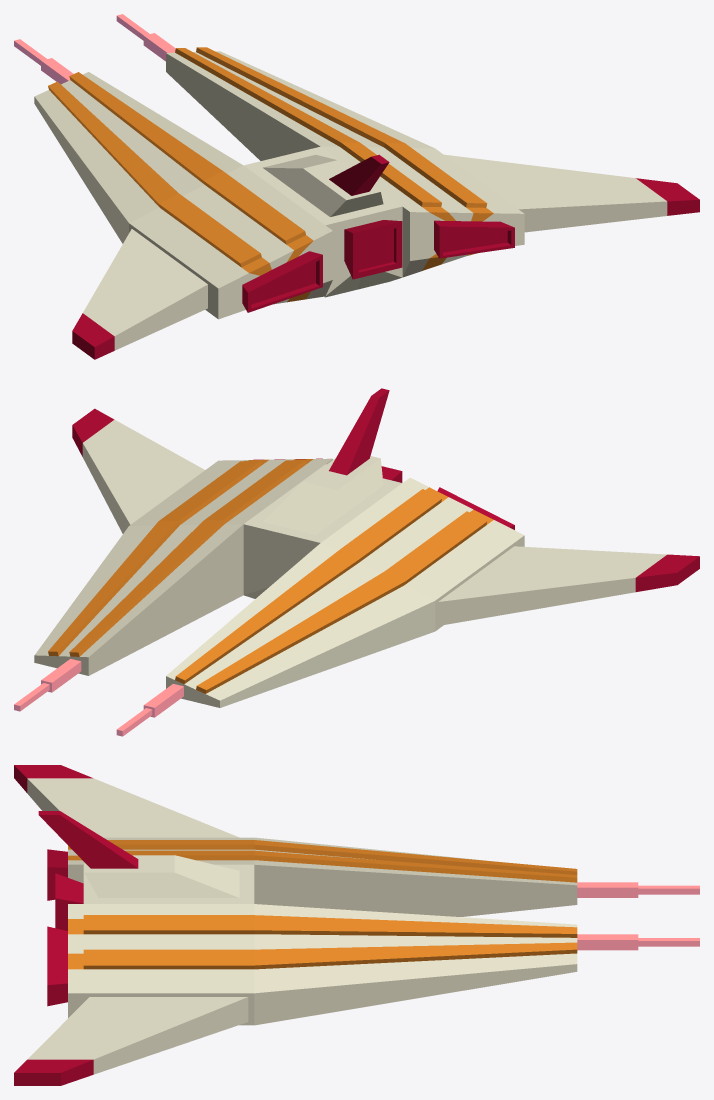
3 renders of one model, top to bottom at view 1: azimuth 30°, elevation 25°; view 2: azimuth 150°, elevation 25°; view 3: azimuth 270°, elevation 25°, orthographic. The views are drawn at different scales.
Visible parts, largest first — view 1: Cube; view 2: Cube; view 3: Cube.
Boxes of the visible parts, left/top/right/bottom form: Cube: left=14, top=14, right=699, bottom=359; Cube: left=14, top=388, right=699, bottom=736; Cube: left=14, top=765, right=699, bottom=1085.
Bounding box in the file's own units: 158 × 36.74 × 149.
